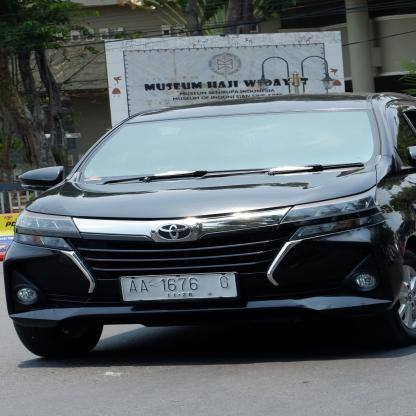Plat-Nomor: (117, 270, 241, 302)
